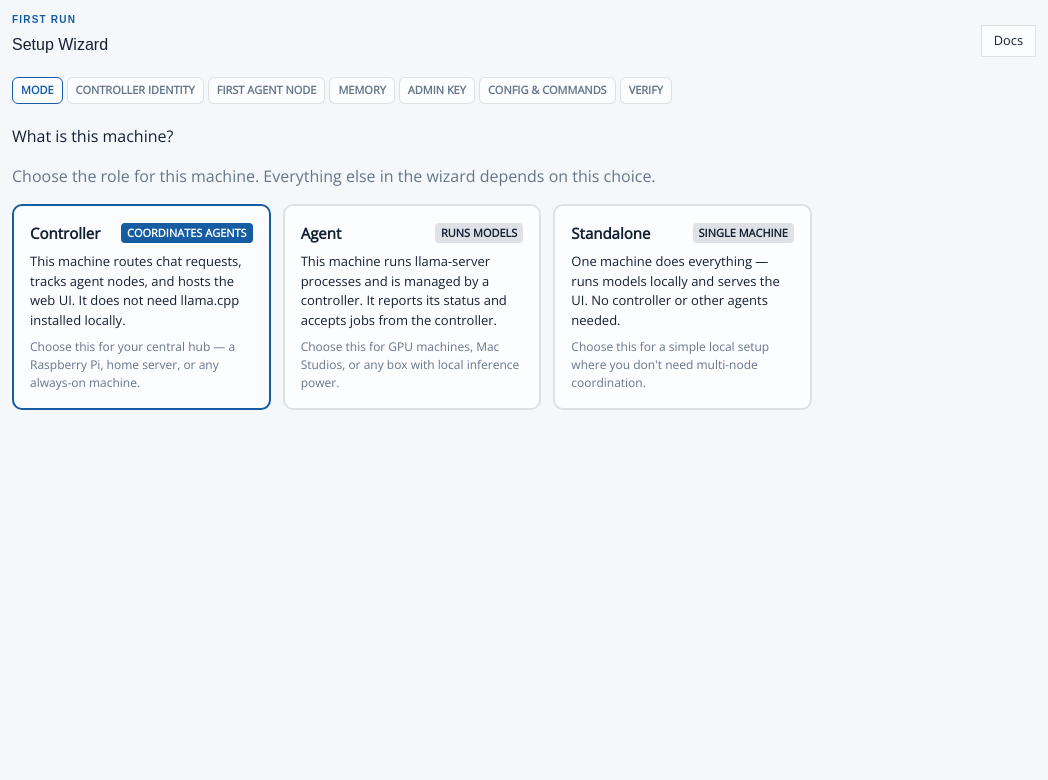
Scenario: advances past mode selection when a mode card is clicked
Expected: the heading "What is this machine?" is shown, [12,124,173,146]
Click the button that starts with "Controller": {"x": 141, "y": 307} [12,204,271,410]
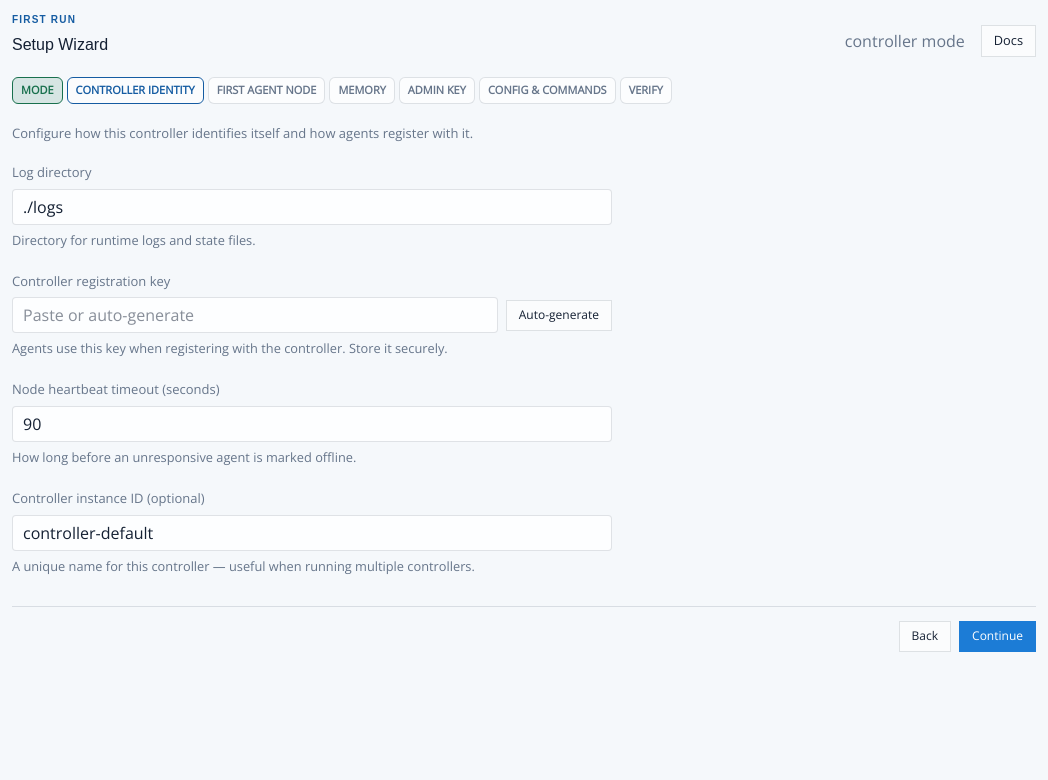
Result: the heading "What is this machine" is gone
